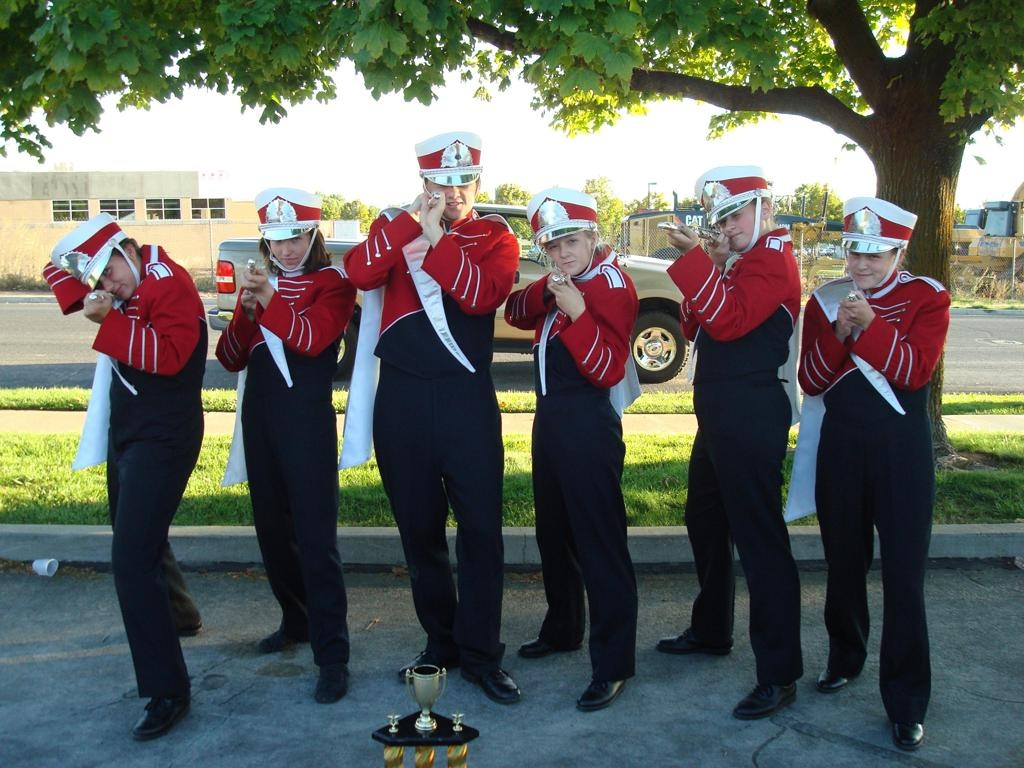human_face: (426, 162, 478, 224), (84, 246, 136, 300), (716, 192, 760, 250), (844, 237, 892, 289), (546, 223, 590, 277), (268, 224, 310, 272)
